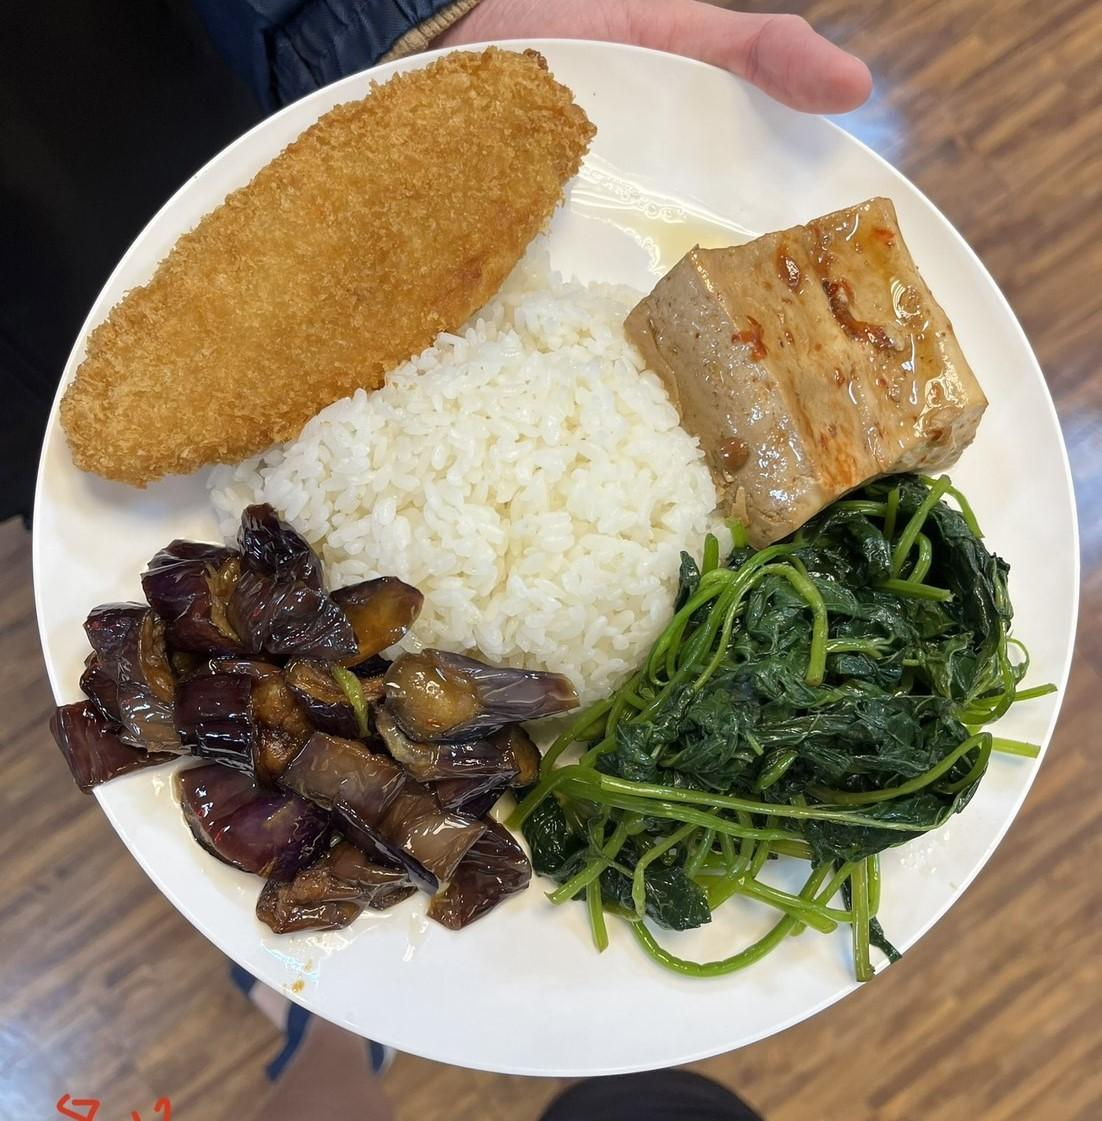big fried chicken leg: (20, 23, 1102, 1088)
big herbal chicken leg: (257, 287, 711, 708)
braised fish fillet: (534, 473, 1033, 938), (56, 518, 562, 948), (618, 193, 988, 549)
braised pork: (49, 33, 594, 505)
